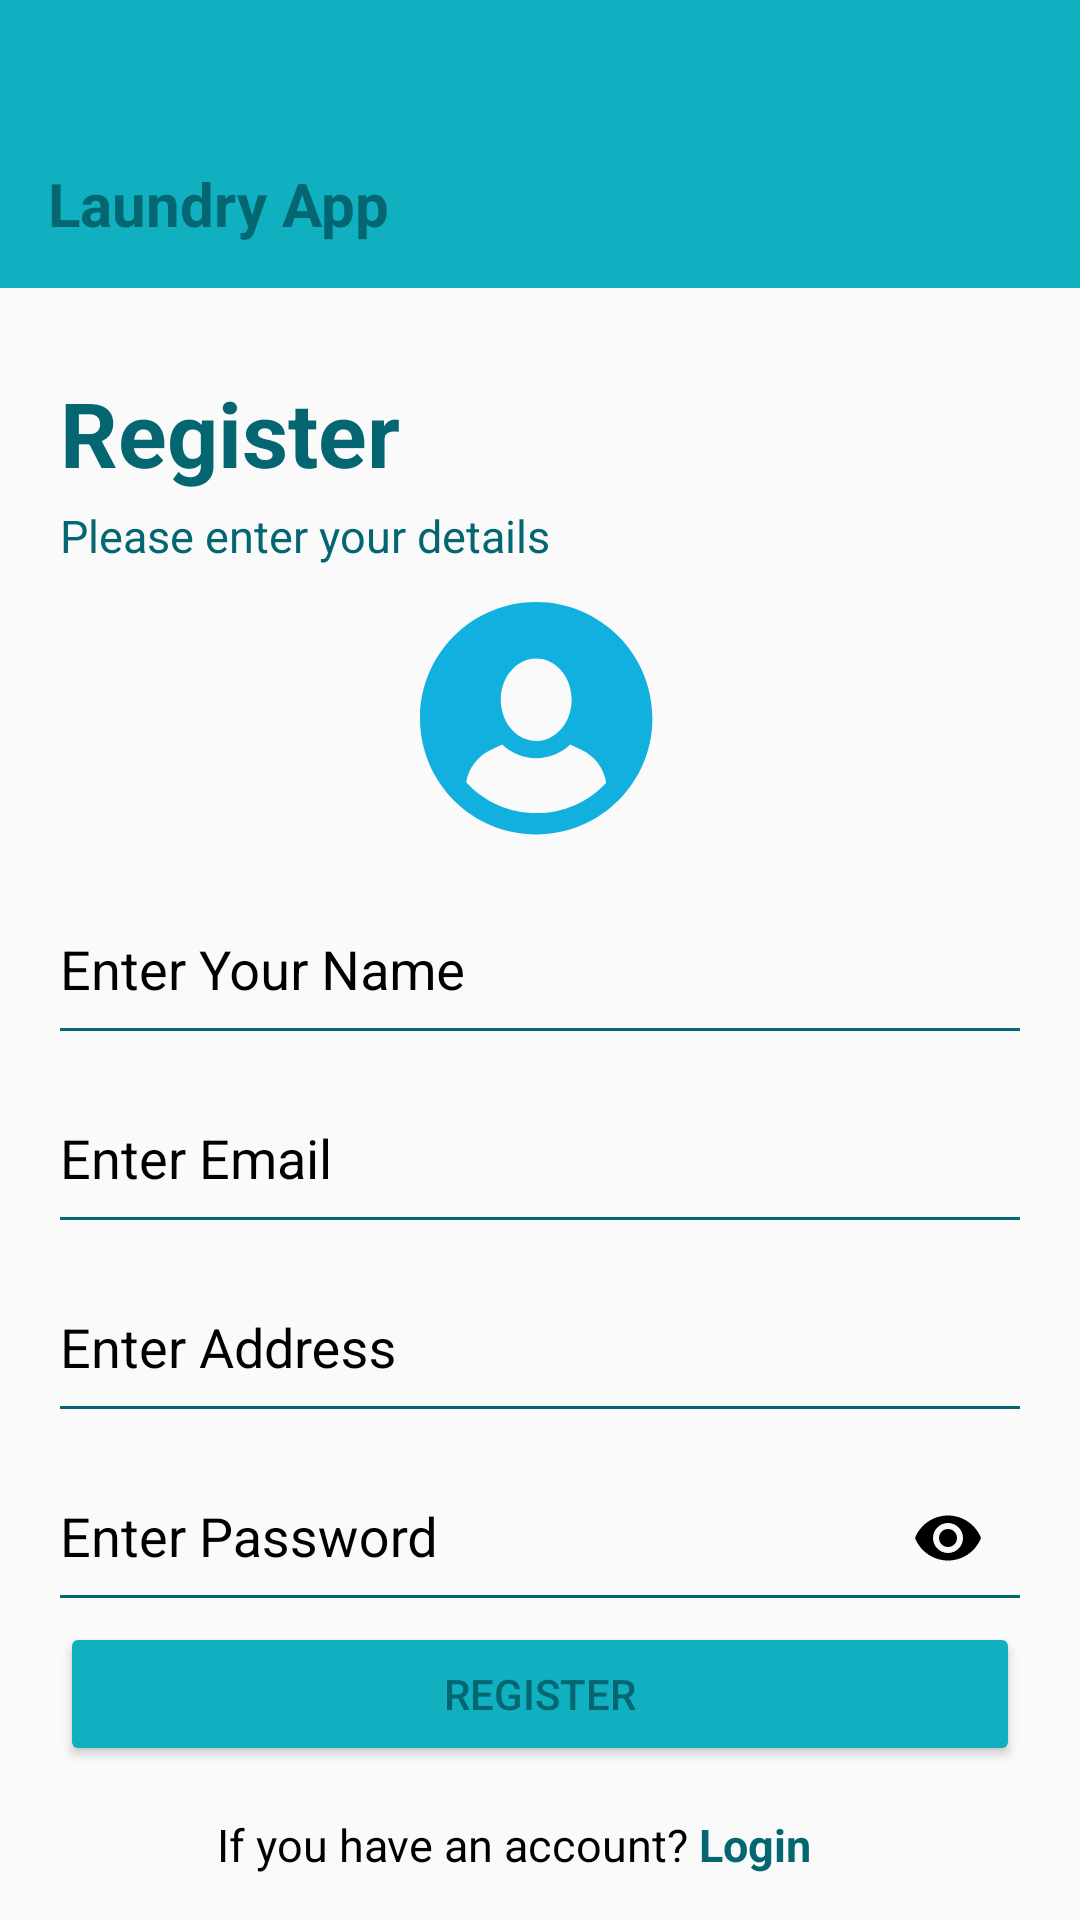

Icon click points for this 1080×1920 phone screenshot, format [x,y]:
account: [536,718]
